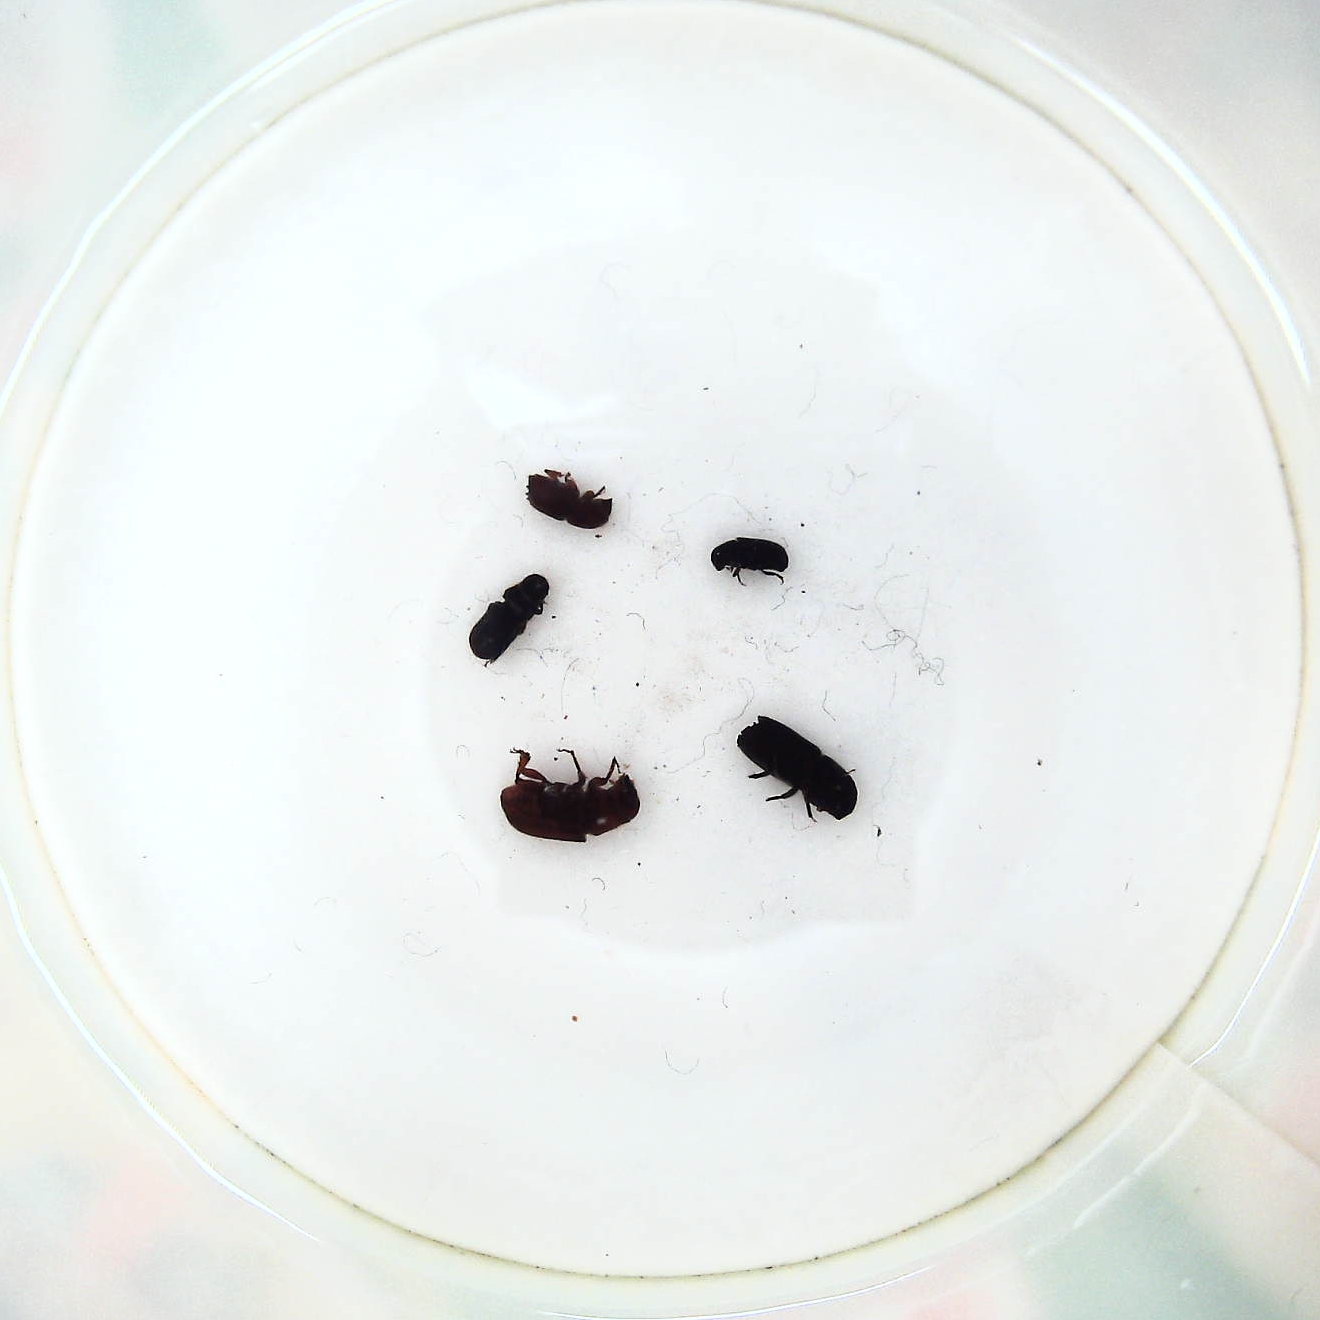Boerner: (735, 713, 859, 824)
Leconte: (498, 742, 645, 849)
armandi: (464, 569, 552, 671)
coleoptera: (706, 537, 797, 587)
linnaeus: (519, 464, 615, 535)
